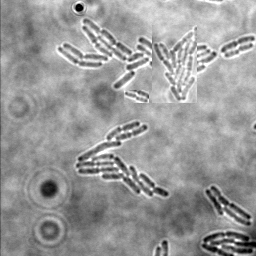Dividing: (219, 34, 255, 52), (223, 41, 253, 57), (124, 90, 149, 103)
Microcolony: (75, 120, 169, 197), (152, 25, 197, 103), (204, 184, 251, 226), (200, 230, 255, 255)
